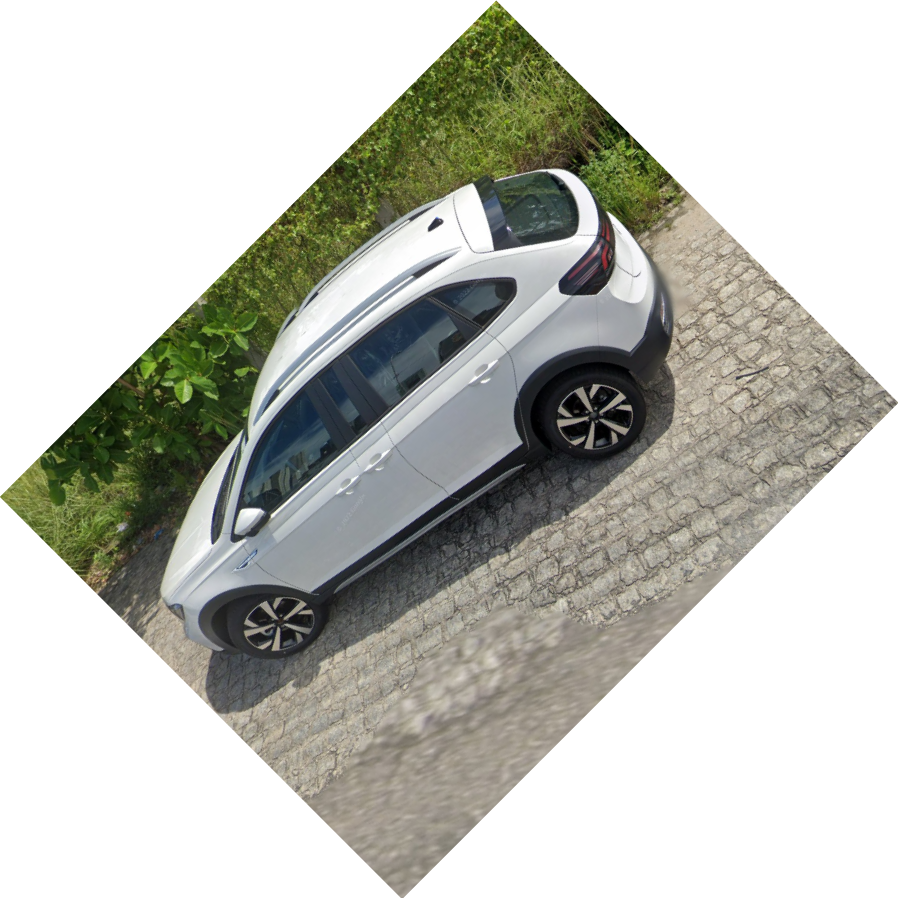car: (154, 163, 675, 657)
